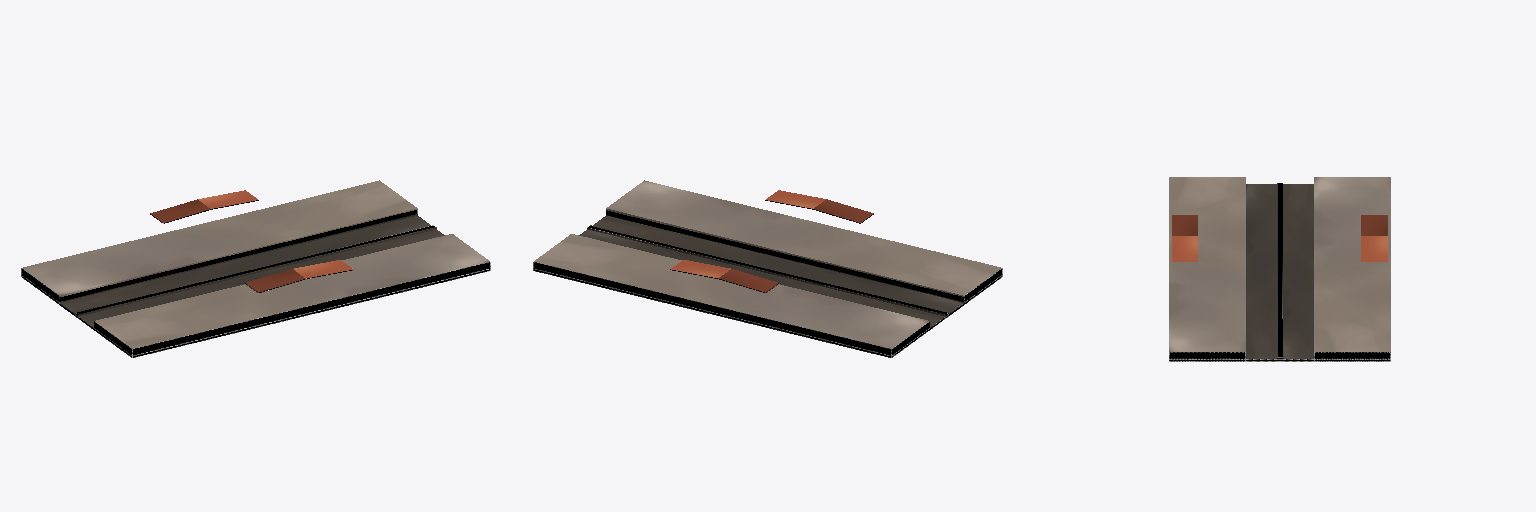
3 renders of one model, left to right at view 1: azimuth 30°, elevation 25°; view 2: azimuth 150°, elevation 25°; view 3: azimuth 270°, elevation 25°, orthographic.
Parts seen in each view (by area): view 1: pCube3, group2 pPlane2, pPlane1 group2; view 2: pCube3, pPlane1 group2, group2 pPlane2; view 3: pCube3, pPlane1 group2, group2 pPlane2.
Boxes of the visible parts, x1,y1,x2,y2 form: pCube3: [21, 180, 490, 357]; group2 pPlane2: [245, 260, 353, 293]; pPlane1 group2: [150, 190, 258, 223]; pCube3: [533, 180, 1002, 357]; pPlane1 group2: [670, 260, 778, 292]; group2 pPlane2: [765, 190, 873, 223]; pCube3: [1169, 177, 1390, 361]; pPlane1 group2: [1361, 215, 1387, 261]; group2 pPlane2: [1172, 215, 1197, 261].
Bounding box in the file's own units: 102 × 9.86 × 54.6.
Materials: 2 (2 with a texture image).